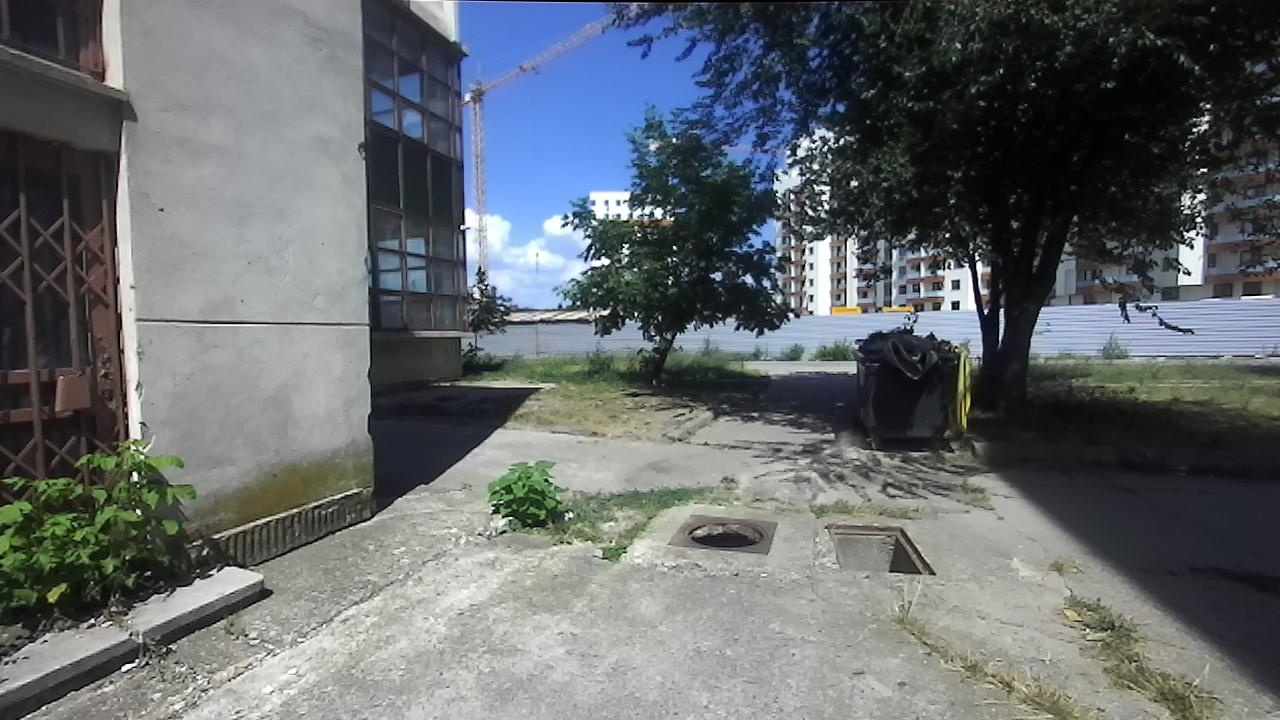drain: (818, 514, 939, 583), (680, 518, 766, 552)
